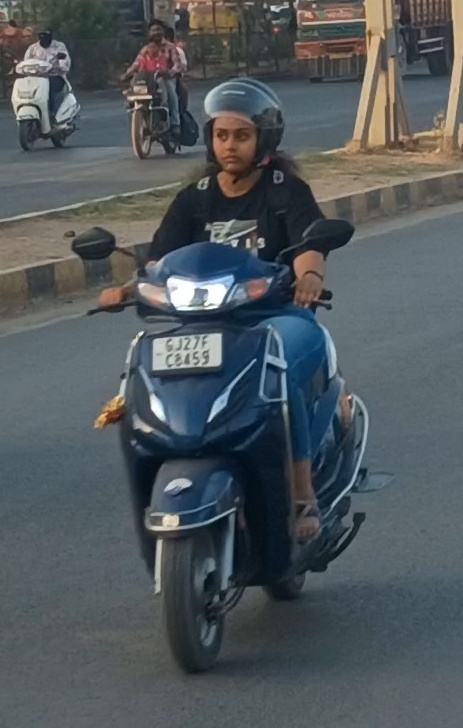BikeWithRider: (60, 69, 401, 680), (113, 14, 204, 164), (3, 21, 87, 155)
Helmet: (194, 71, 293, 181)
